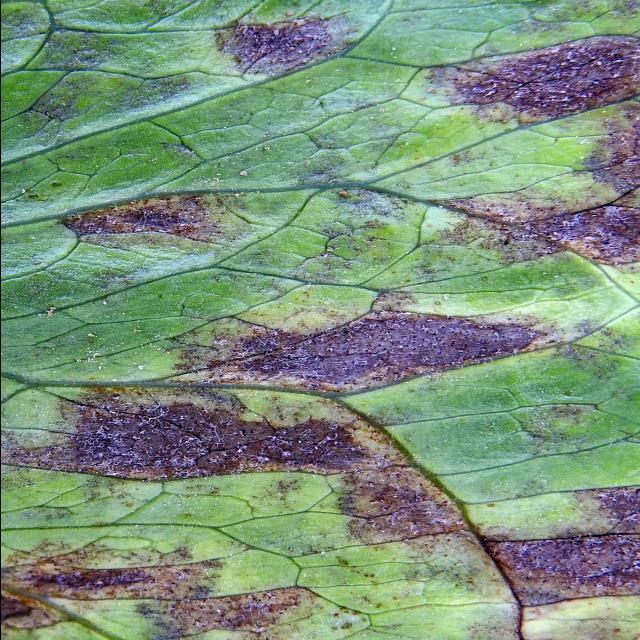Septoria_Blight_on_lettuce: (12, 15, 631, 631)
